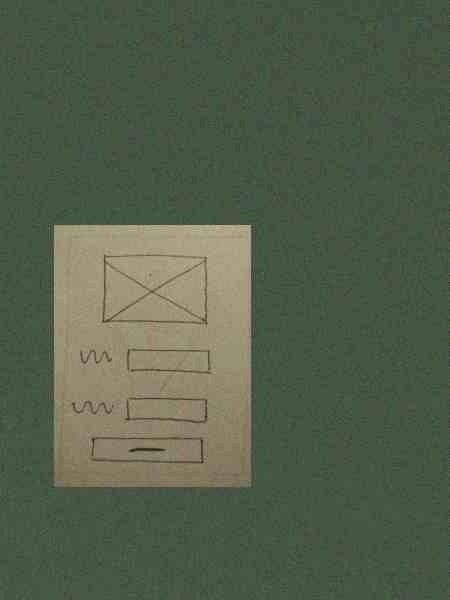button: (88, 432, 206, 469)
image: (99, 249, 214, 332)
text: (76, 341, 117, 376), (67, 396, 116, 423)
text_input: (124, 345, 215, 377), (121, 395, 212, 425)
